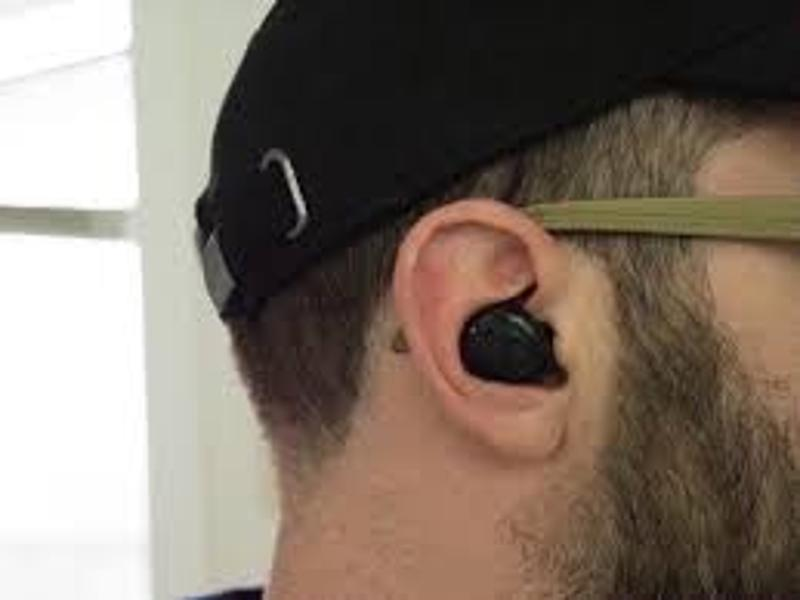headphone: (458, 302, 555, 389)
